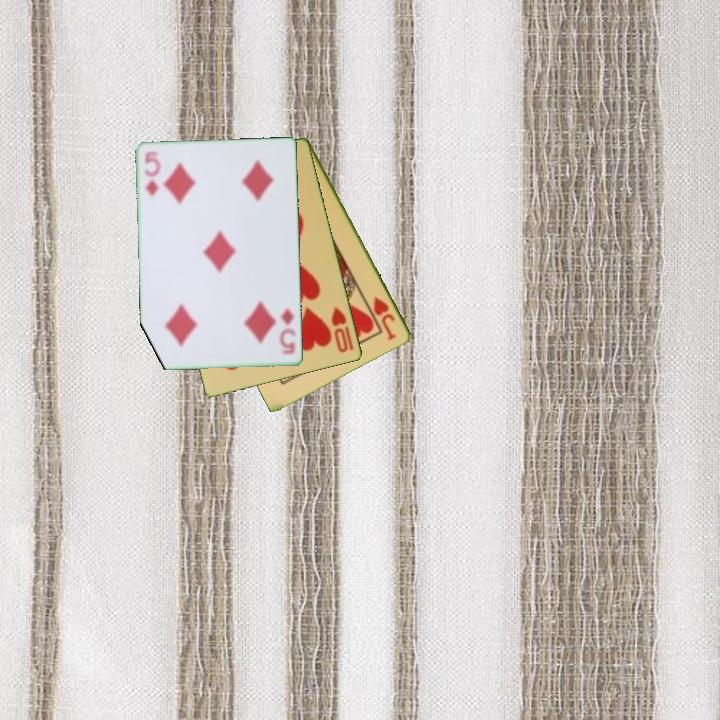10h: (328, 303, 357, 356)
5d: (277, 305, 299, 357), (141, 148, 162, 199)
Jh: (370, 293, 399, 343)
